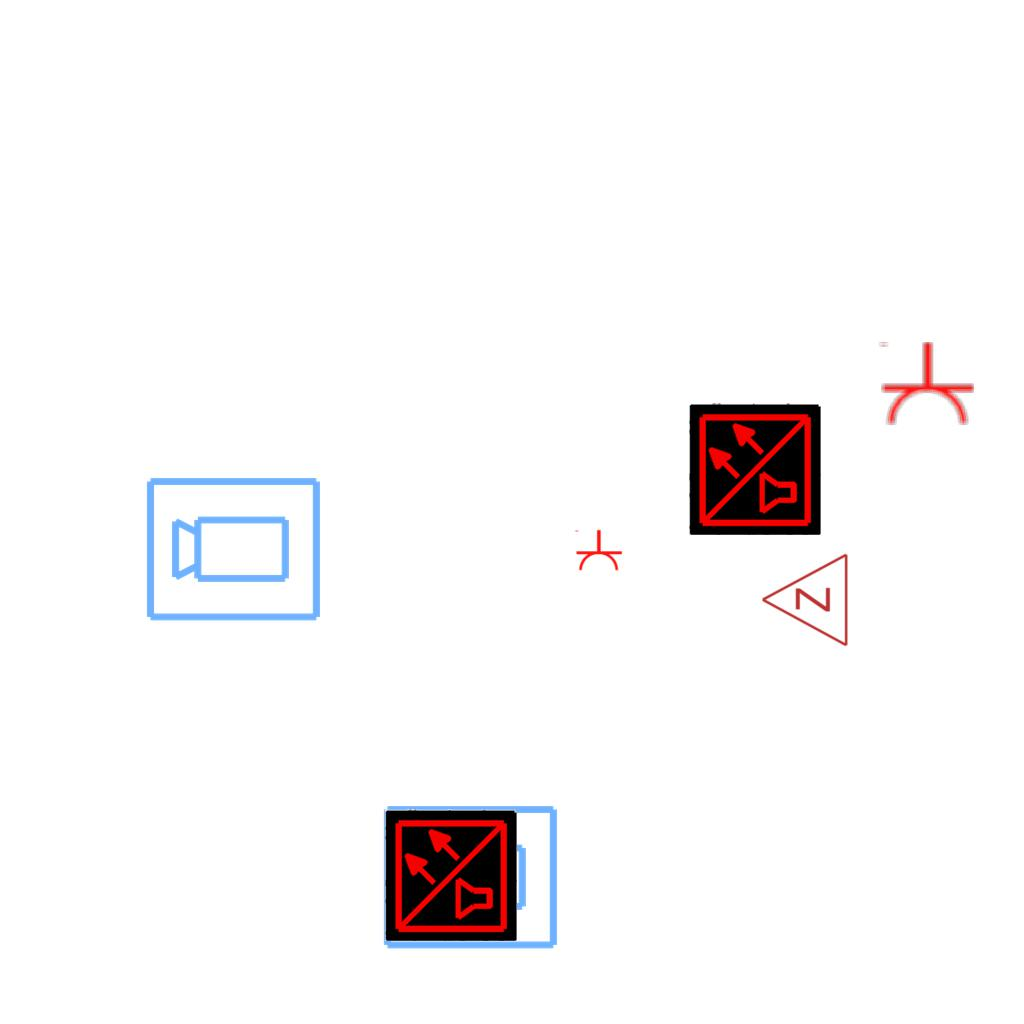KFO_Kamera_mit_Festobjektiv: (380, 799, 562, 953), (143, 471, 325, 625)
OKW_Multisensormelder_(Kombination_optischer_Rauch-Kahlenmonoxid_Waerme-Melder): (689, 403, 821, 535), (385, 809, 517, 941)
Schukosteckdose_einfach: (876, 340, 976, 427), (573, 529, 623, 572)
Zimmersignalleuchte: (755, 552, 855, 650)
